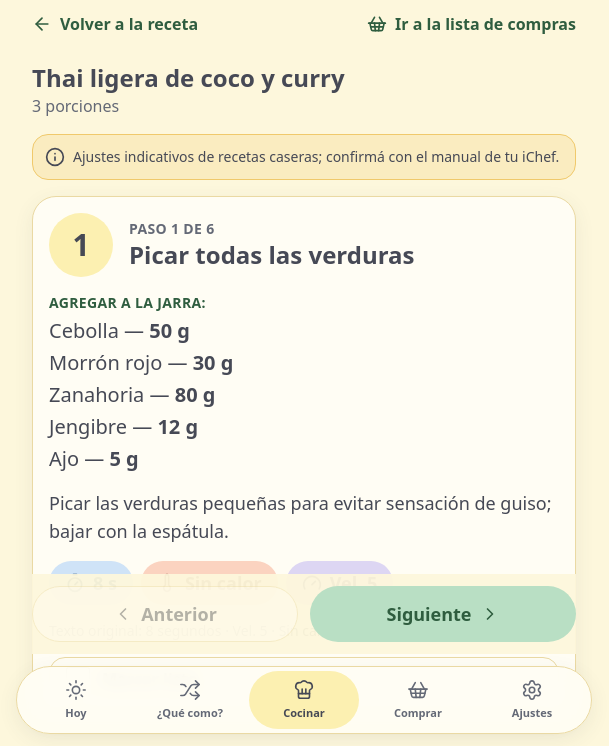
Scenario: thai without legume has six screens and Anterior is disabled on the first
The width and height of the screenshot is (609, 746).
Expected: the text "Paso 1 de 6" is shown, [129, 219, 215, 238]
Expected: the button "Anterior" is disabled, [32, 586, 298, 642]
Click the button "Siguiente" at (443, 614), box [310, 586, 576, 642]
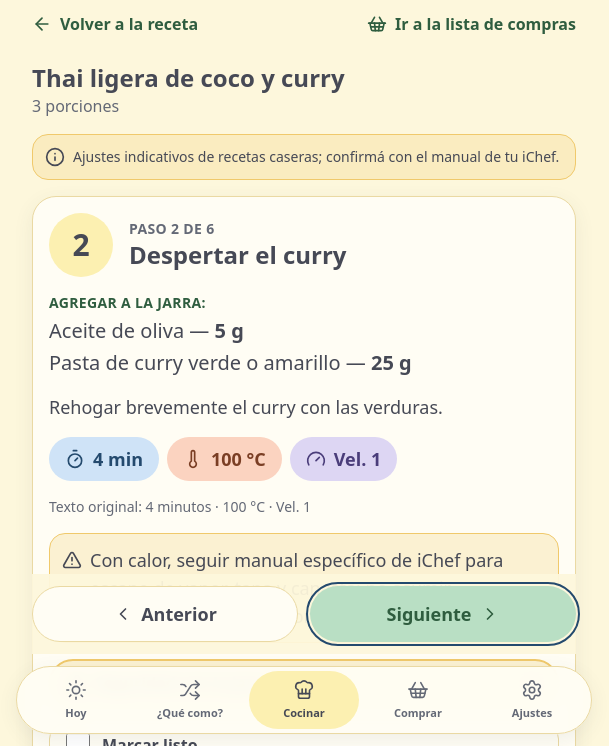
Click the button "Siguiente" at (443, 614), box [310, 586, 576, 642]
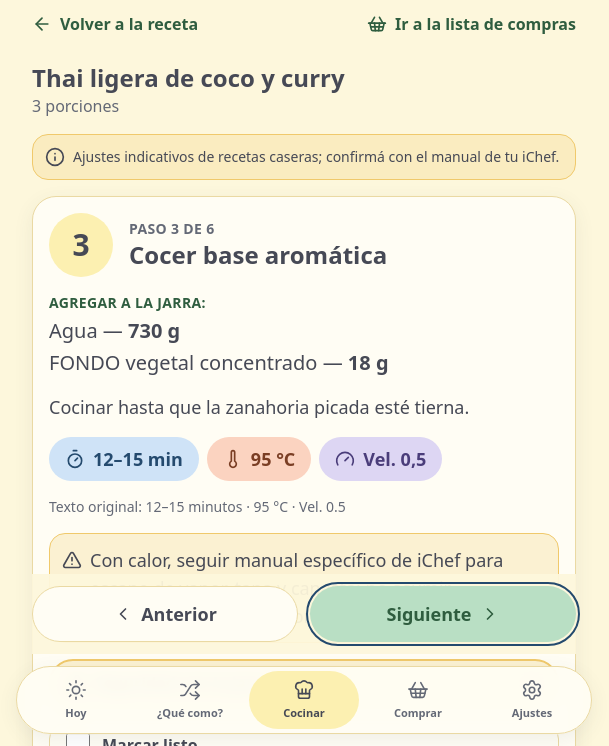
Click the button "Siguiente" at (443, 614), box [310, 586, 576, 642]
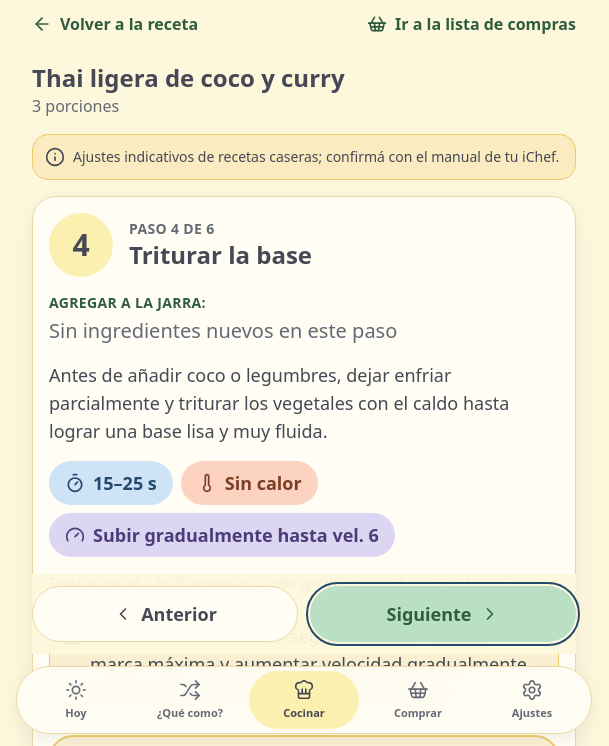
Click the button "Siguiente" at (443, 614), box [310, 586, 576, 642]
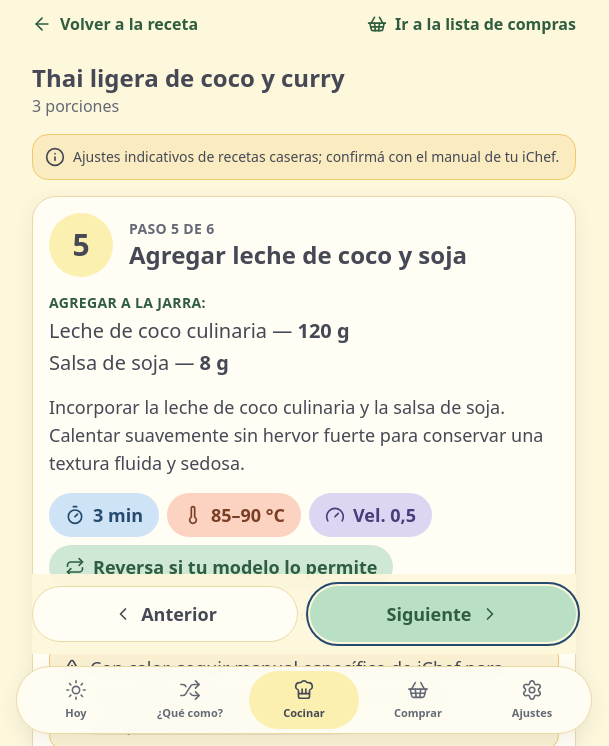
Click the button "Siguiente" at (443, 614), box [310, 586, 576, 642]
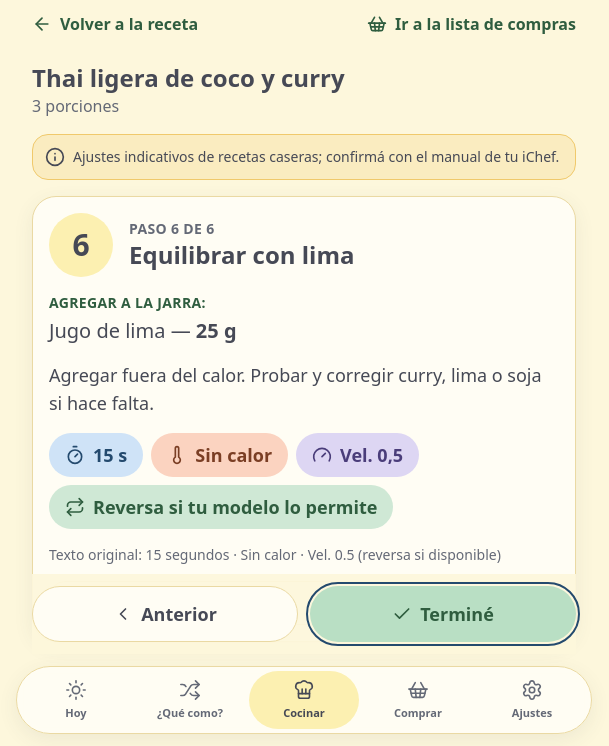
Result: the button "Anterior" is enabled at [32, 586, 298, 642]
Result: the text "Paso 6 de 6" is shown at [129, 219, 215, 238]
Result: the button "Terminé" is shown at [310, 586, 576, 642]
